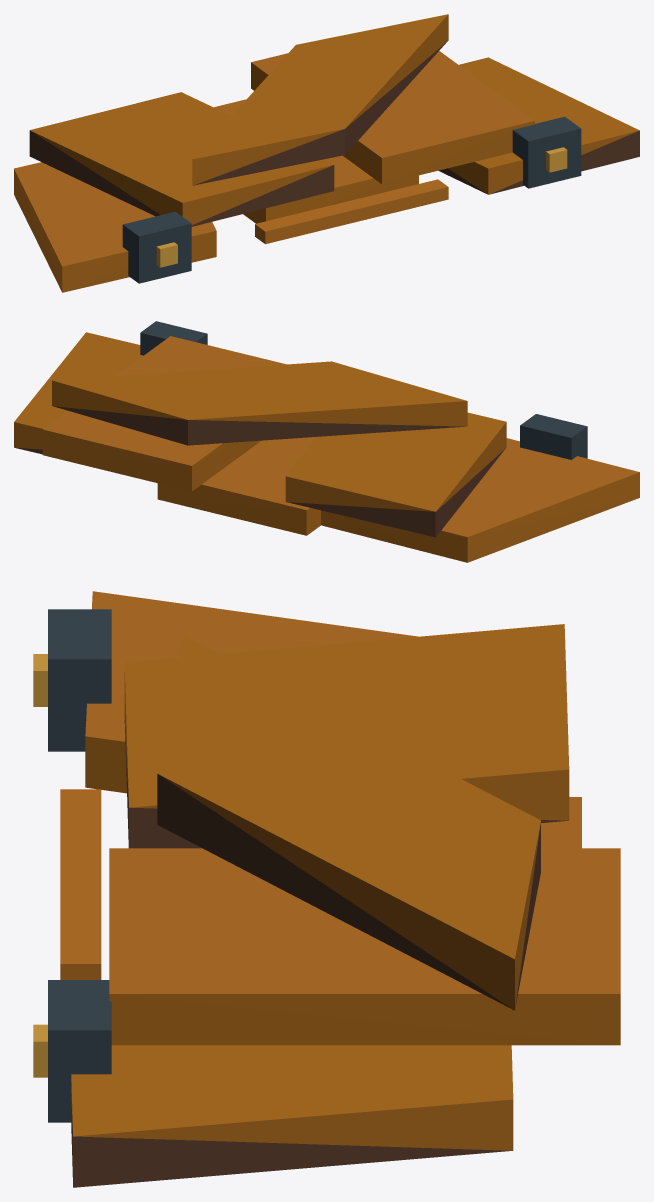
The model's file is scrap-planks-butter.glb.
3 views of the same model, one above another, from view 1: azimuth 30°, elevation 25°; view 2: azimuth 150°, elevation 25°; view 3: azimuth 270°, elevation 25° (orthographic). The views are drawn at different scales.
Visible parts, largest first — view 1: scrap-planks-butter; view 2: scrap-planks-butter; view 3: scrap-planks-butter.
Boxes of the visible parts, x1,y1,x2,y2 form: scrap-planks-butter: (14, 14, 639, 292); scrap-planks-butter: (14, 321, 639, 562); scrap-planks-butter: (33, 591, 620, 1187).
Bounding box in the file's own units: 1.52 × 0.2 × 0.6915.
